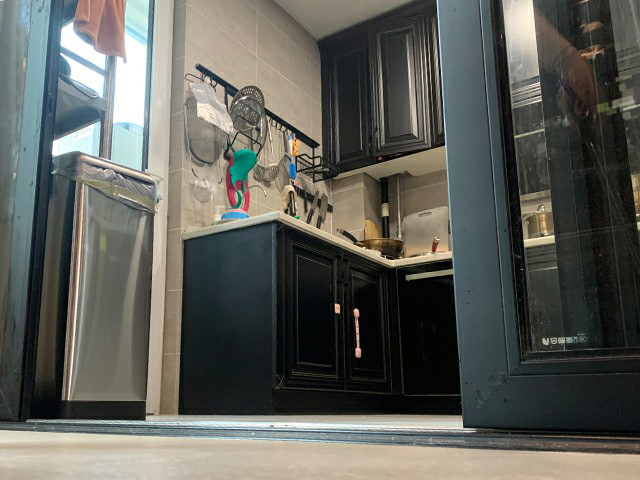cabinet: (170, 210, 398, 414), (400, 258, 458, 411)
trashcan: (30, 153, 159, 423)
